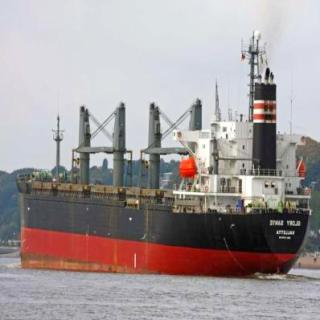Bulk Carrier: (12, 75, 312, 279)
